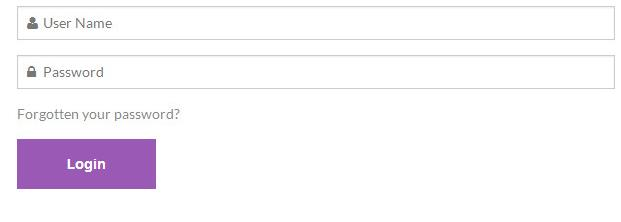button: (16, 138, 157, 190)
field: (16, 5, 616, 41), (16, 54, 616, 90)
